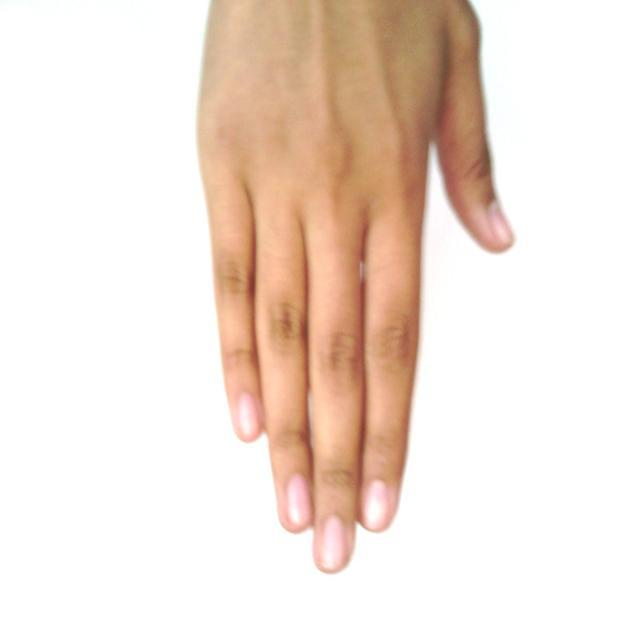Fingernail: (319, 517, 347, 569), (287, 475, 311, 525), (365, 480, 389, 529), (490, 202, 514, 243), (238, 393, 258, 438)
